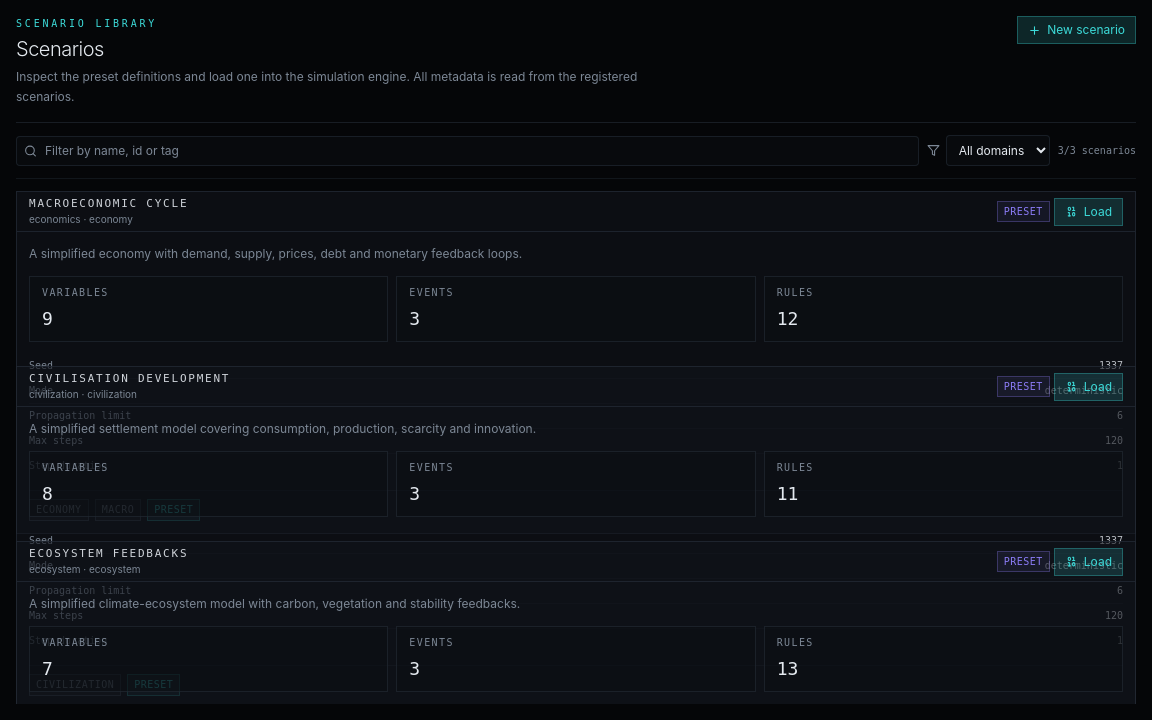
it: ScenariosView › offers a clear action when filters exclude every scenario
Later steps or results of the test are not shown.
Type "nonexistent-domain-filter" into the search field named "Filter scenarios" at [467, 150], box [16,136,919,166]
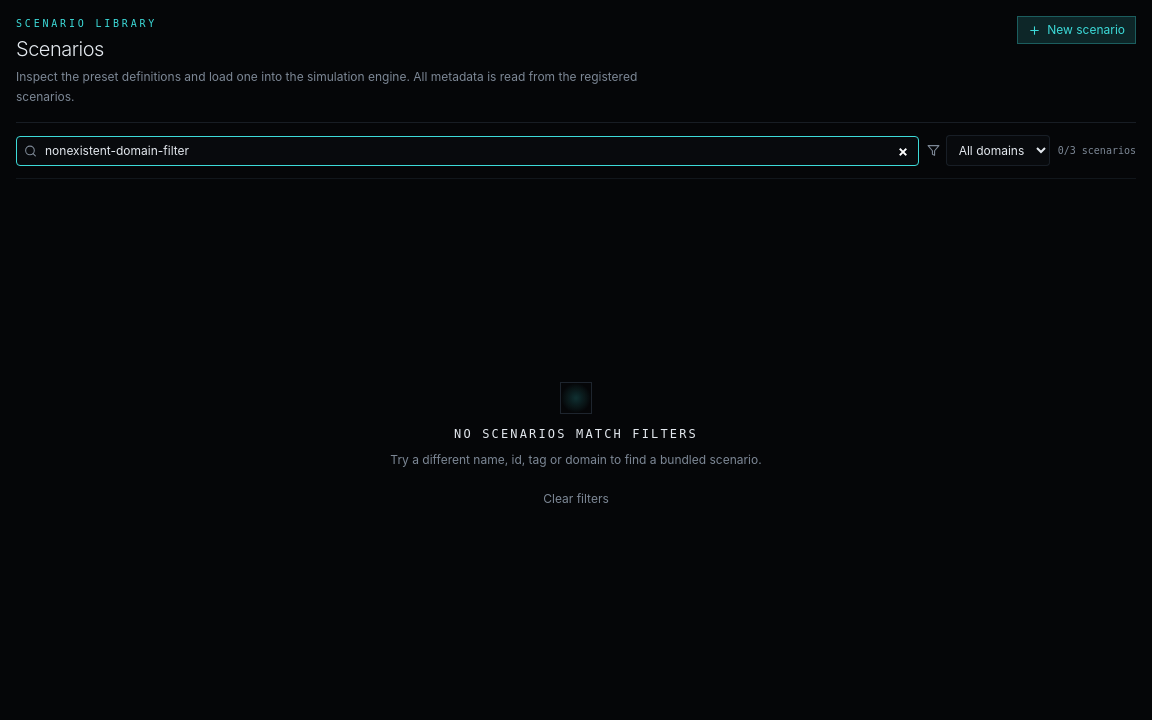
Result: the heading "No scenarios match filters" is shown at [454,426,698,442]
